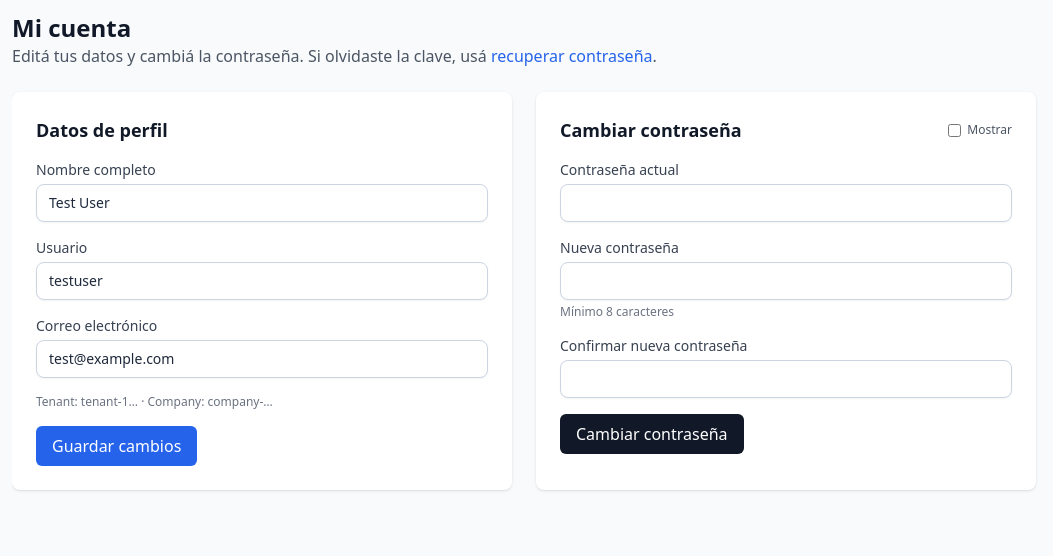
Scenario: Profile page › rejects mismatched new passwords client-side
This screenshot has width=1053, height=556.
Expected: the field showing "test@example.com" is shown, [36,340,488,378]
Type "secret123" into the password field labelled "Contraseña actual" at (786, 203), box [560,184,1012,222]
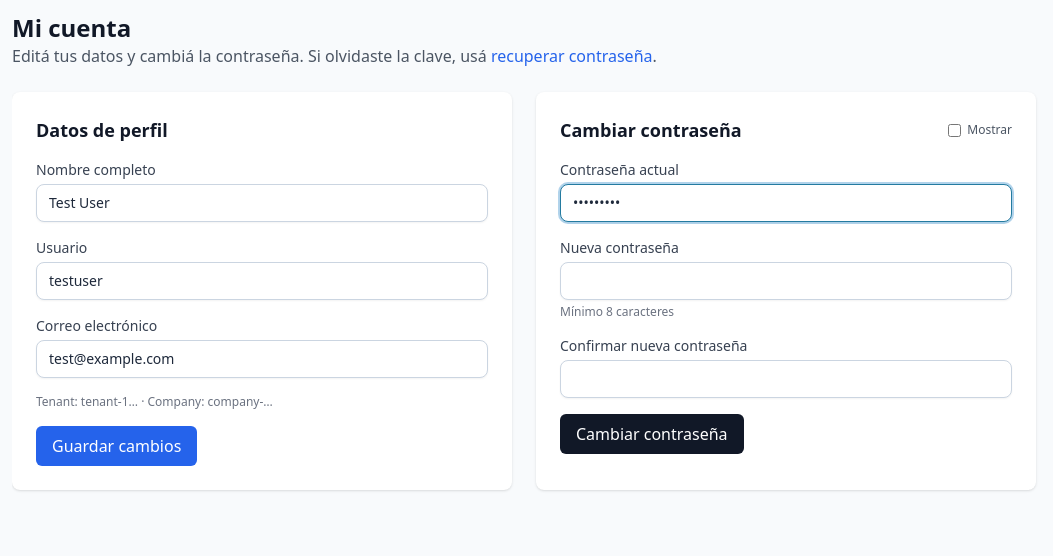
Type "newpass99" into the password field labelled "Nueva contraseña" at (786, 281), box [560,262,1012,300]
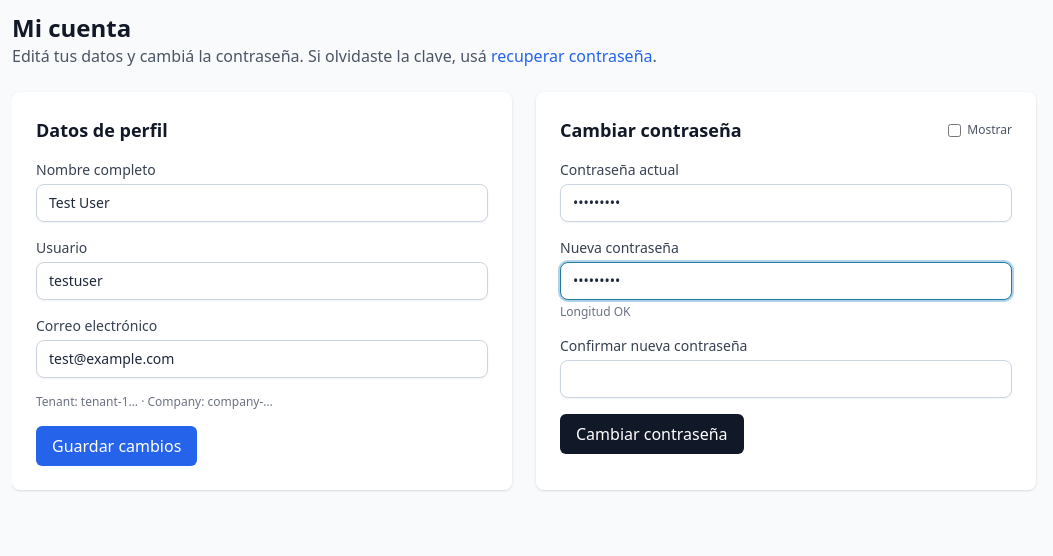
Type "otherpass" into the password field labelled "Confirmar nueva contraseña" at (786, 379), box [560,360,1012,398]
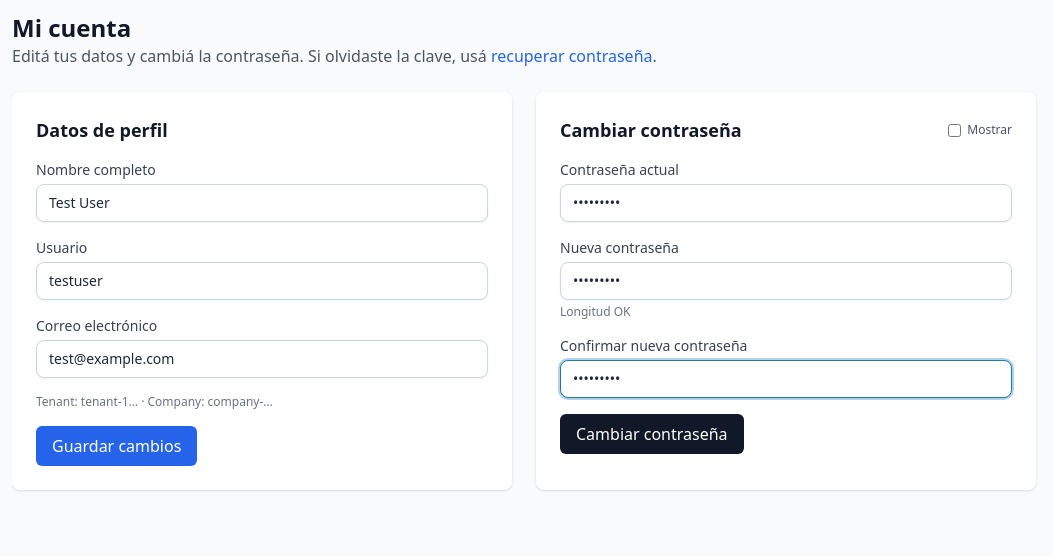
Click the button "Cambiar contraseña" at (652, 434), box [560,414,744,454]
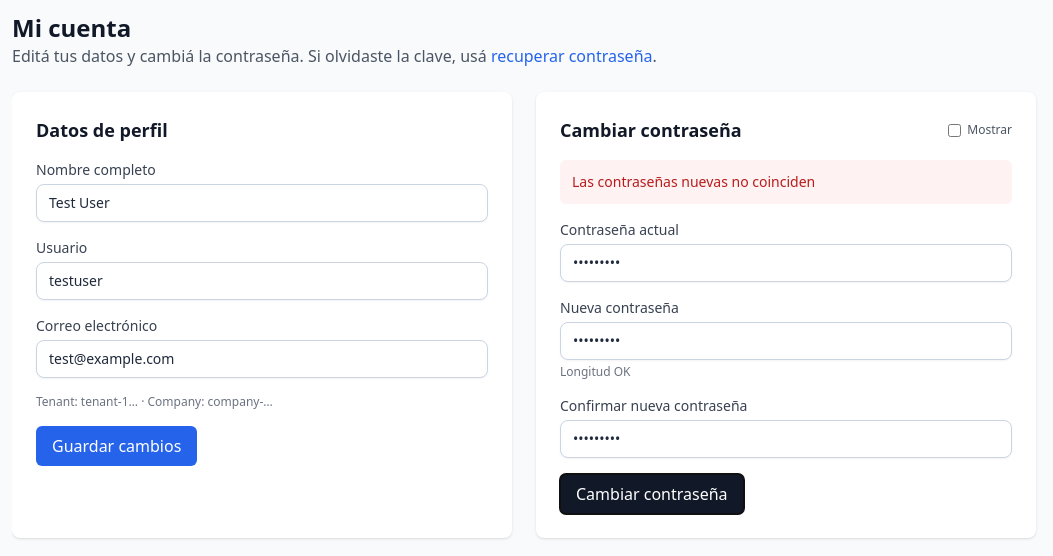
Result: the text "Las contraseñas nuevas no coinciden" is shown at [560,160,1012,204]
